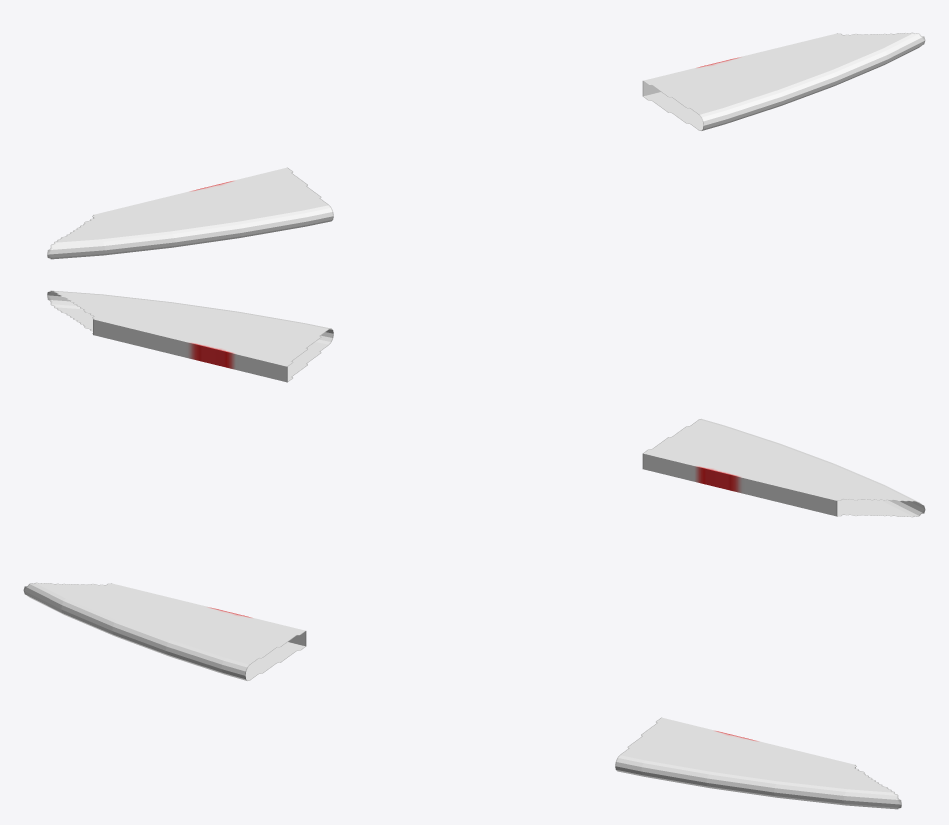
Rendered from elevator.obj.
The picture shows the model from 3 angles, top to bottom: view 1: azimuth 30°, elevation 25°; view 2: azimuth 150°, elevation 25°; view 3: azimuth 330°, elevation 25°; orthographic projection.
Visible parts, largest first — view 1: Elevator; view 2: Elevator; view 3: Elevator.
Boxes of the visible parts, box(x1,y1,x2,y2) form: Elevator: box(47, 32, 925, 259); Elevator: box(47, 290, 925, 517); Elevator: box(23, 582, 901, 809).
Size of the model in its own units: 0.7644 by 0.0127 by 0.0796.
1 material, 1 textured.
